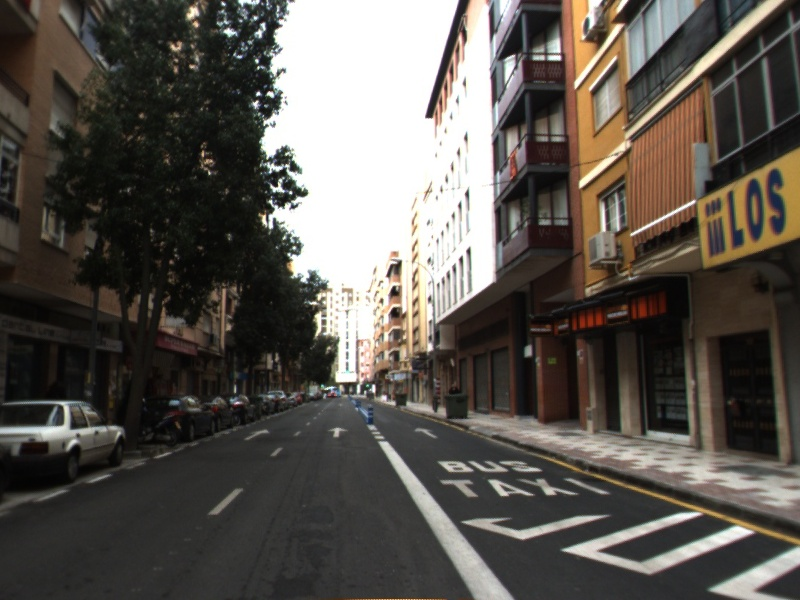STRAIGHT: (242, 427, 272, 442), (412, 425, 440, 441), (326, 425, 350, 439)
